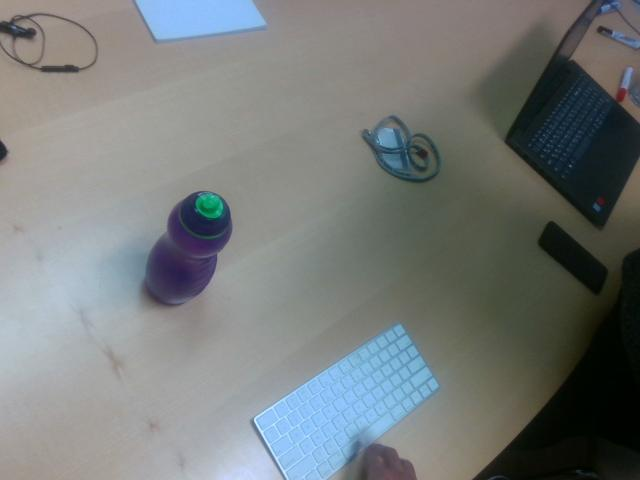bottle: (145, 193, 234, 305)
